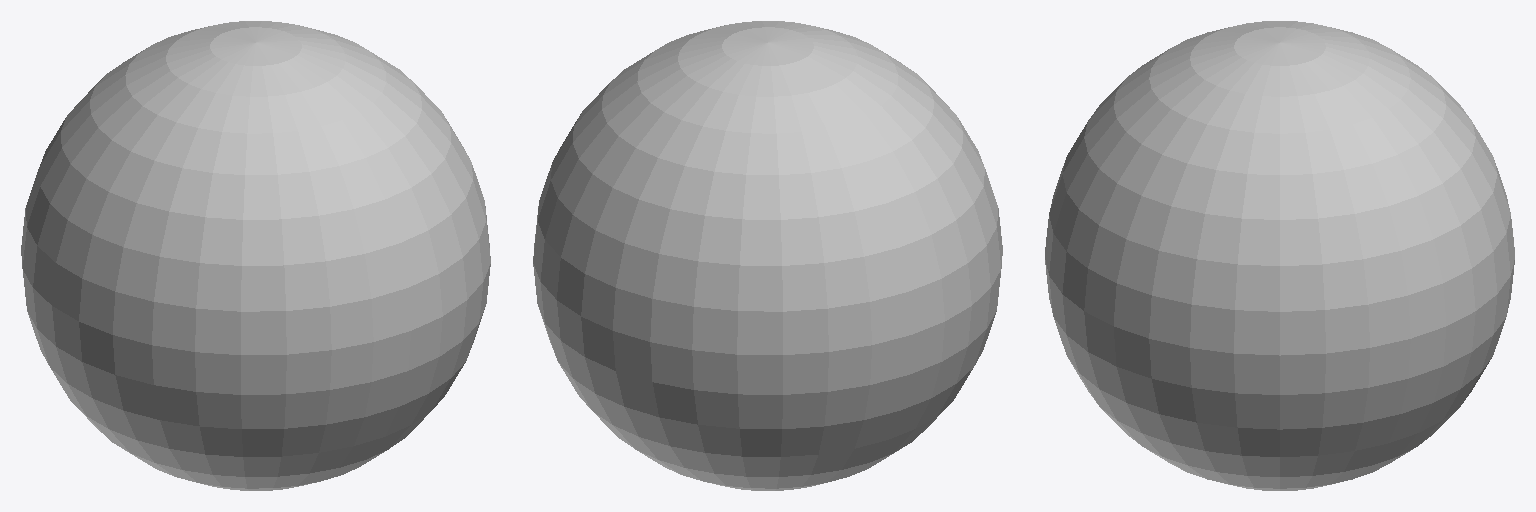
Rendered from Sun.obj.
The picture shows the model from 3 angles: view 1: azimuth 30°, elevation 25°; view 2: azimuth 150°, elevation 25°; view 3: azimuth 270°, elevation 25°; orthographic projection.
Parts seen in each view (by area): view 1: Sphere; view 2: Sphere; view 3: Sphere.
Part boxes in pixels (left/top/right/bottom): Sphere: left=21, top=21, right=490, bottom=490; Sphere: left=533, top=21, right=1002, bottom=490; Sphere: left=1045, top=21, right=1514, bottom=490.
Bounding box in the file's own units: 2.38 × 2.38 × 2.38.